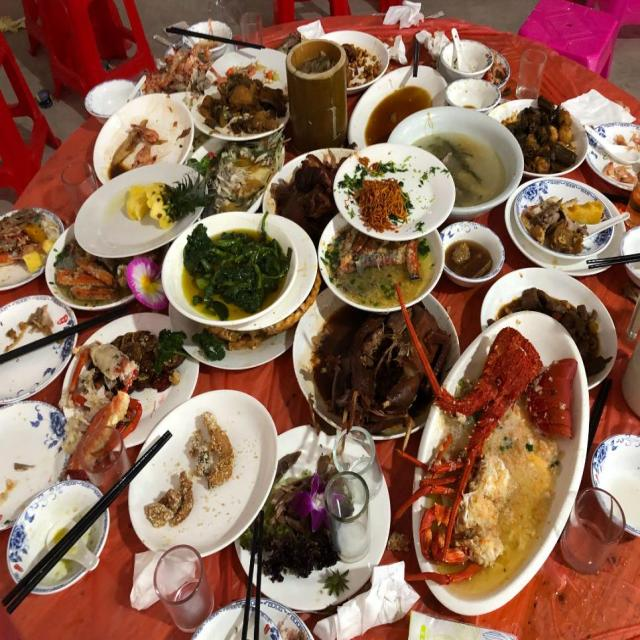Wet: (126, 169, 220, 229)
